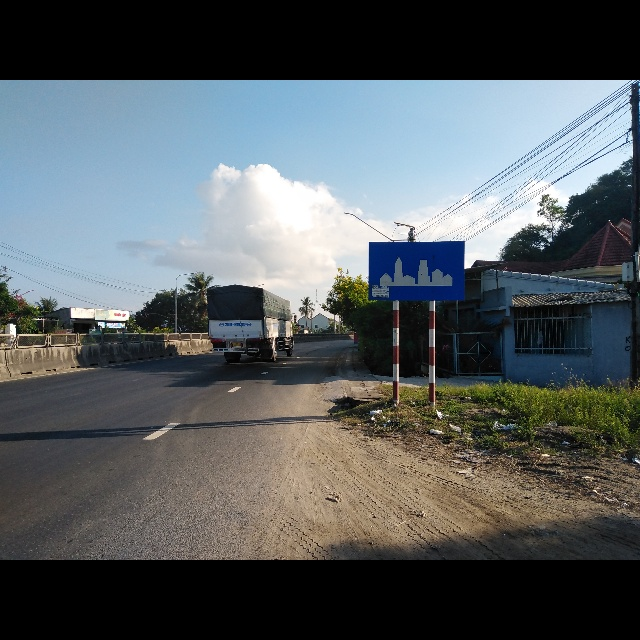Khu đông dân cư: (368, 241, 465, 303)
